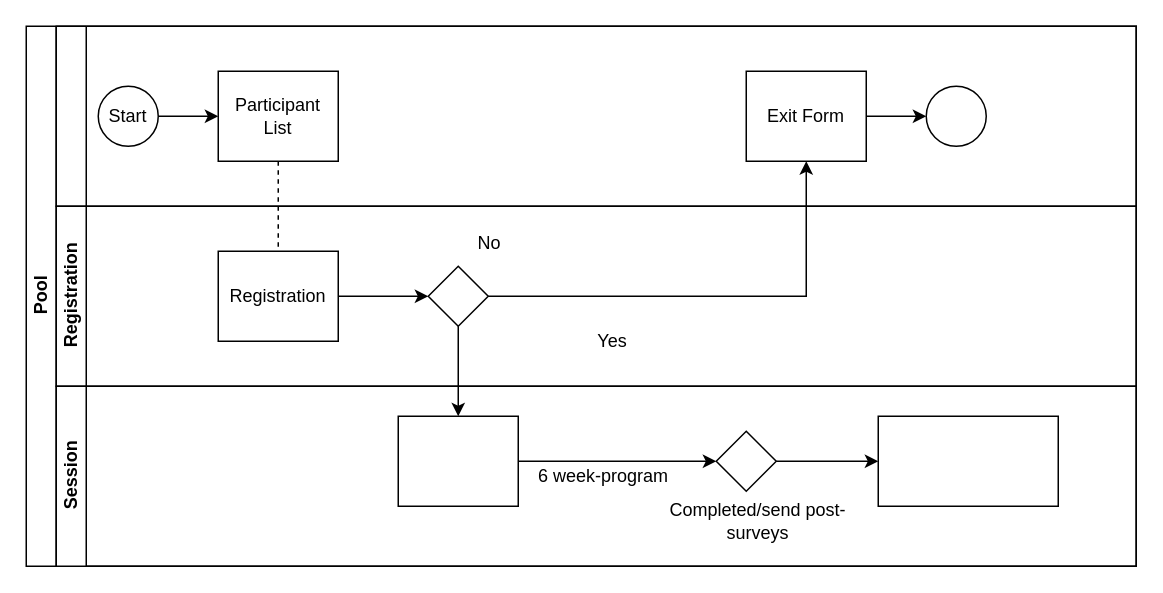
The diagram is 1163 pixels wide and 593 high, and some of its shapes have lost their labels. Each missing label, with the centre of its shape:
Join: (x=457, y=295)
Post-surveys: (x=967, y=460)
Pre-surveys: (x=457, y=460)
